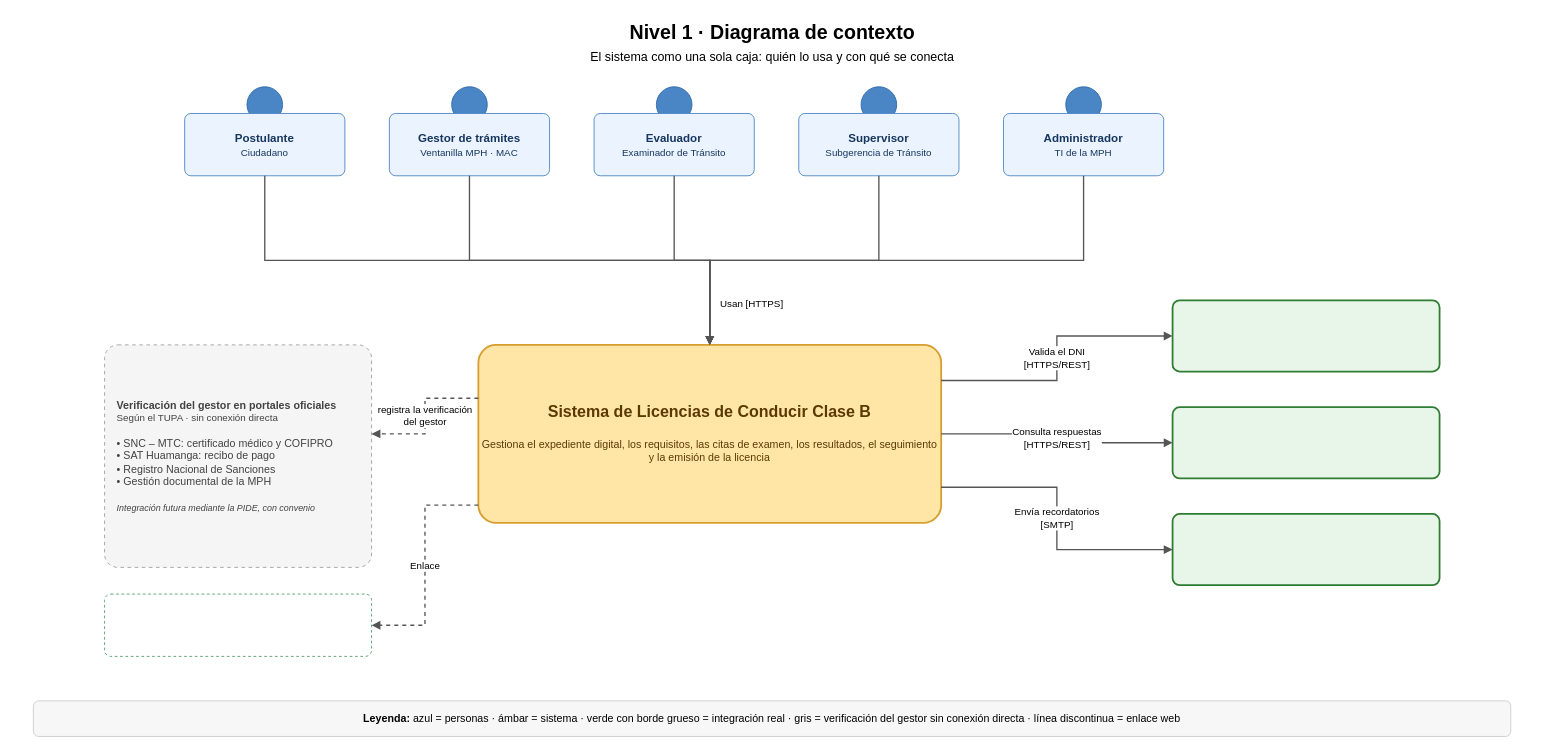
Some shapes in this 1543 by 752 pixel diagram are drawn without their labels. The centre of each missing label's shape, as x and y in pixels:
"API Perú Consulta de datos del DNI" belongs at point (1305, 335).
"Correo electrónico Servidor SMTP" belongs at point (1305, 549).
"Enlace oficial Consulta de licencias del MTC" belongs at point (238, 624).
"IA de orientación Modelo de lenguaje" belongs at point (1305, 442).
